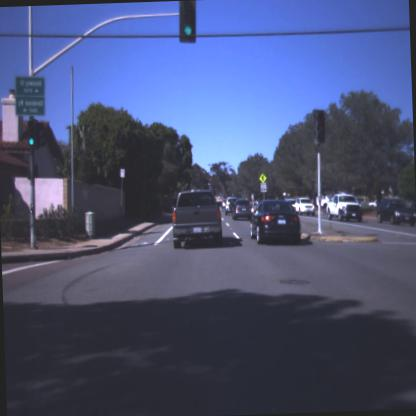trafficlight: (174, 0, 200, 46), (26, 116, 40, 151)
